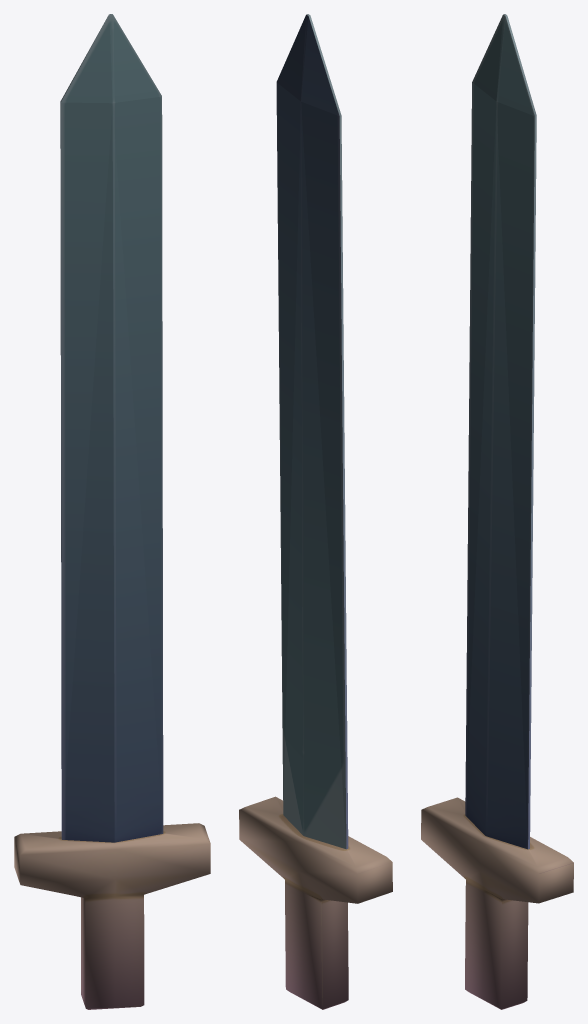
The model's file is Sword.fbx.
3 views of the same model, side by side, from view 1: azimuth 30°, elevation 25°; view 2: azimuth 150°, elevation 25°; view 3: azimuth 330°, elevation 25° (orthographic).
Visible parts, largest first — view 1: Sword.001; view 2: Sword.001; view 3: Sword.001.
Boxes of the visible parts, bbox=[...] form: Sword.001: bbox=[14, 14, 210, 1009]; Sword.001: bbox=[239, 14, 392, 1009]; Sword.001: bbox=[421, 14, 573, 1009].
Size of the model in its own units: 12.15 by 20.85 by 116.
2 materials, 2 textured.
